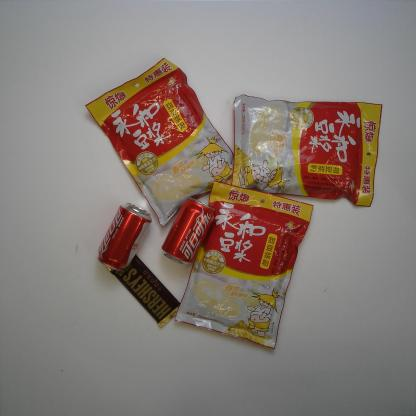Chocolate: (105, 251, 183, 328)
Drink: (161, 196, 216, 266), (97, 202, 152, 272)
Instant Drink: (83, 57, 235, 227), (174, 181, 313, 350), (231, 93, 383, 209)
